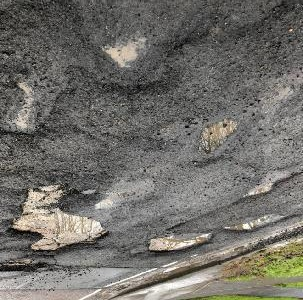pothole: (6, 182, 114, 257), (0, 79, 43, 143), (146, 230, 214, 255), (196, 117, 239, 155), (223, 212, 287, 235), (0, 260, 48, 276)
